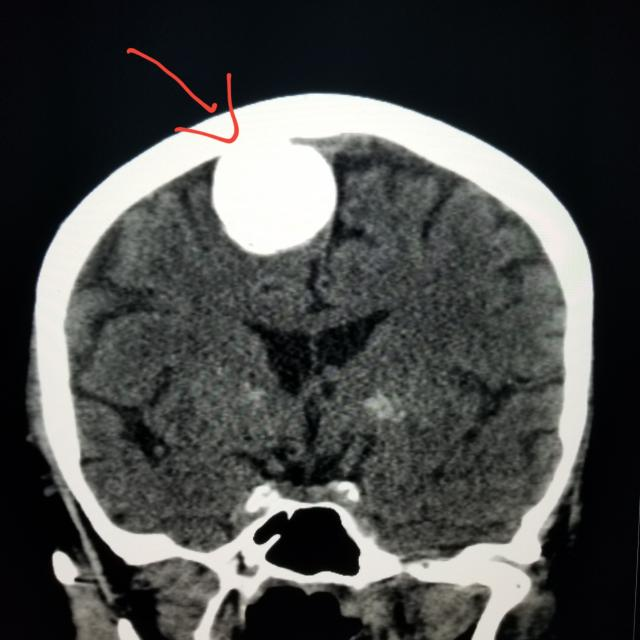Tumor: (208, 150, 336, 249)
